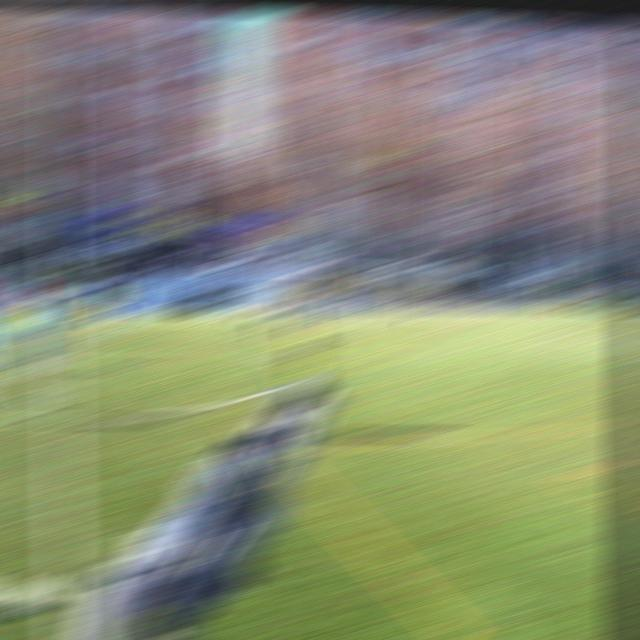bigarea_top_inner: (434, 313, 460, 318)
bigarea_top_outter: (600, 313, 624, 316)
corner: (564, 307, 586, 310)
halfcircle_bottom: (42, 407, 81, 435)
halfcircle_top: (45, 331, 77, 348)
midline_top_intersection: (47, 311, 74, 322)
top_arc_area_intersection: (539, 329, 567, 338)
